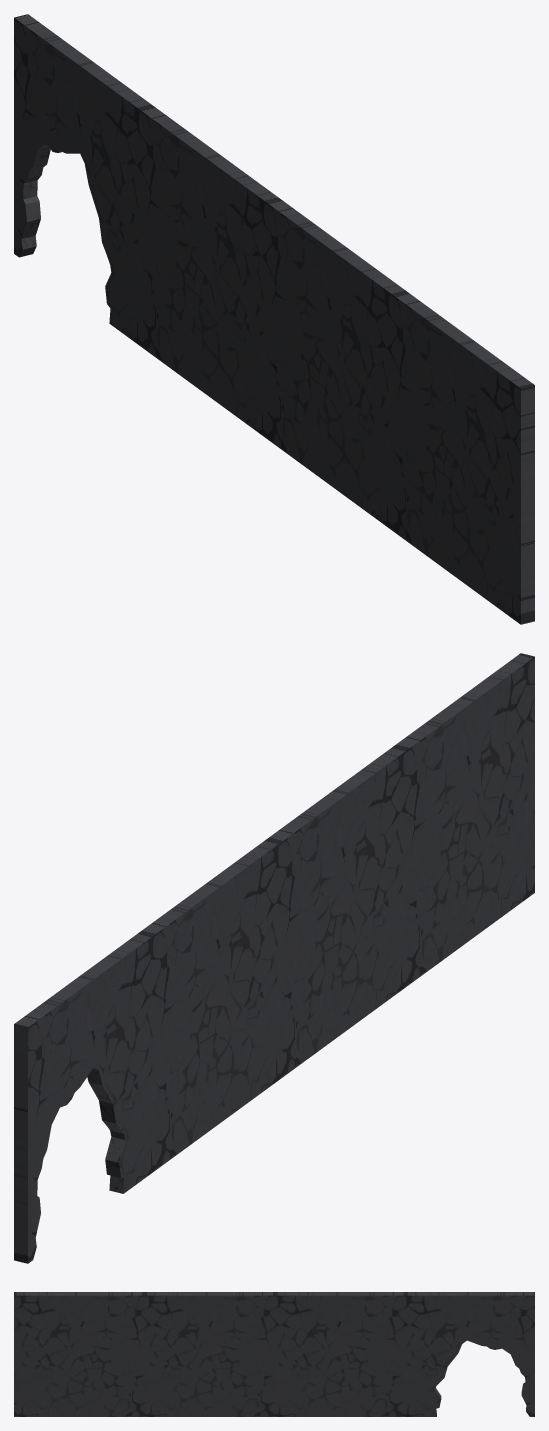
Rendered from Wall_Rock_Ouverture.FBX.
3 views of the same model, one above another, from view 1: azimuth 30°, elevation 25°; view 2: azimuth 150°, elevation 25°; view 3: azimuth 270°, elevation 25° (orthographic). The views are drawn at different scales.
Visible parts, largest first — view 1: Wall_Rock_Test_v003; view 2: Wall_Rock_Test_v003; view 3: Wall_Rock_Test_v003.
Part boxes in pixels (x1=…): Wall_Rock_Test_v003: x1=14, y1=14, x2=534, y2=624; Wall_Rock_Test_v003: x1=14, y1=653, x2=534, y2=1263; Wall_Rock_Test_v003: x1=14, y1=1292, x2=534, y2=1416.
Size of the model in its own units: 26.36 by 422 by 1640.
1 material, 1 textured.
